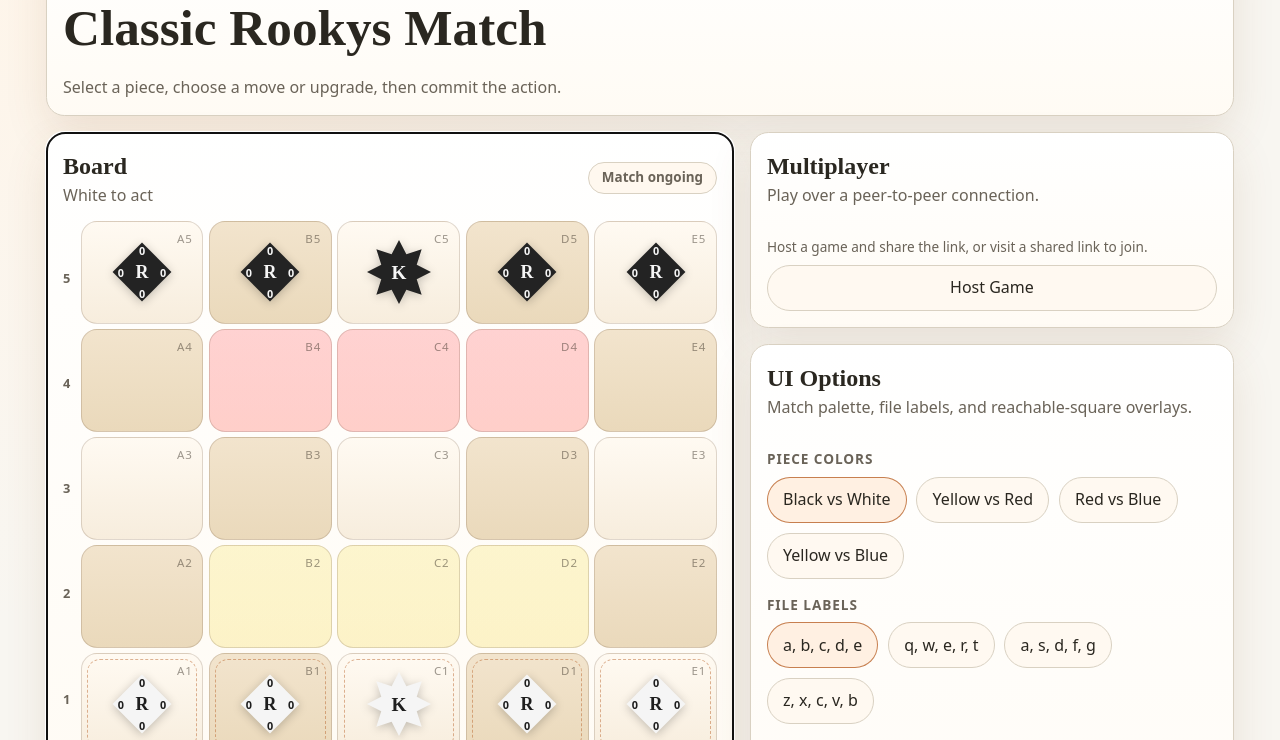
Test: App – multiplayer › host game flow: button click → waiting message → share link when peer id assigned
This screenshot has width=1280, height=740.
(page scrolled)
Step 1. Click the button "Host Game" → click(992, 288), box x1=767 y1=265 x2=1217 y2=311
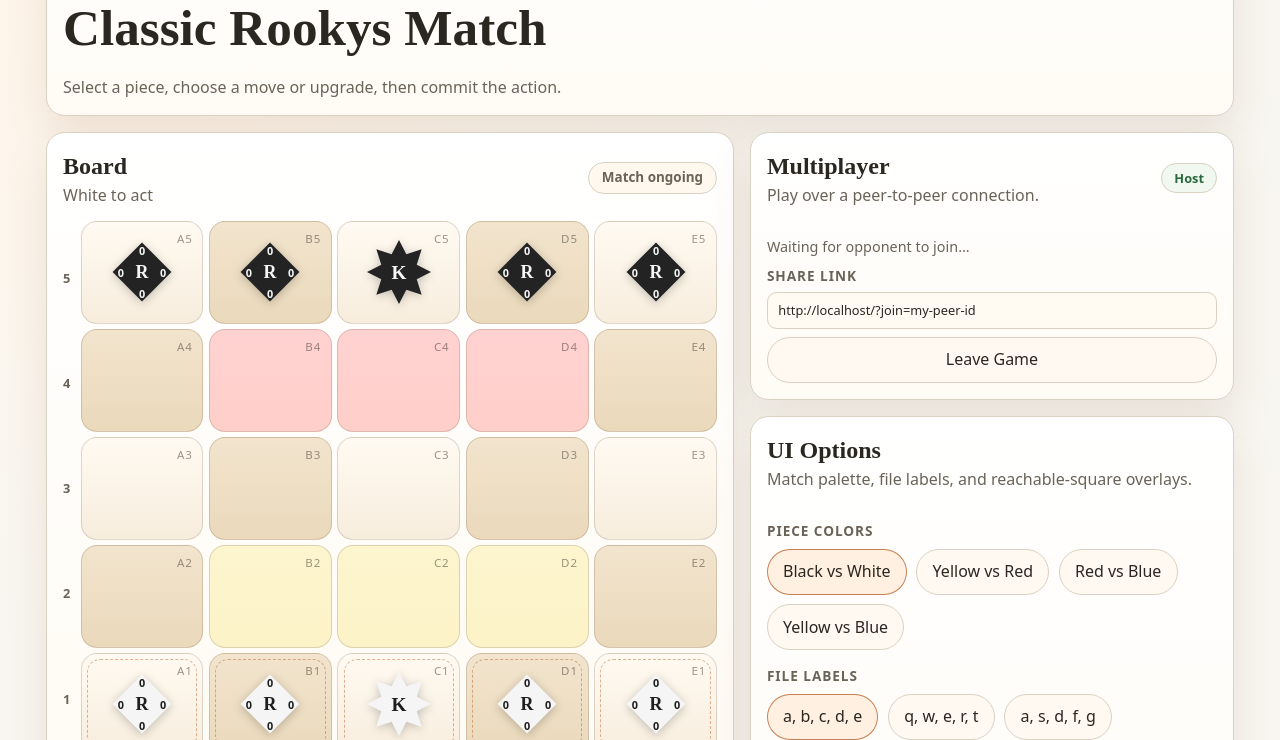
Check: the text "Waiting for opponent to join…" is shown, box x1=767 y1=237 x2=970 y2=256
Check: the field named "Share link" is shown, box x1=767 y1=292 x2=1217 y2=329
